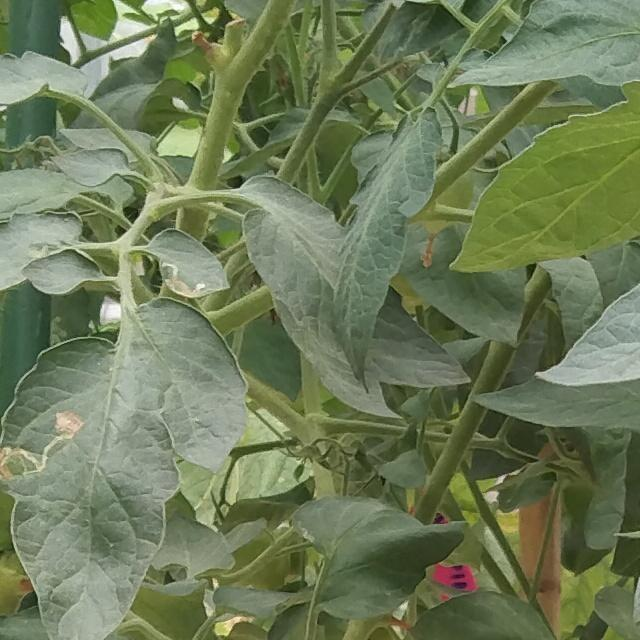Healthy: (239, 171, 474, 389), (448, 75, 640, 278), (329, 104, 442, 397)
Leaf_Miner: (0, 295, 252, 640), (153, 227, 231, 298)
